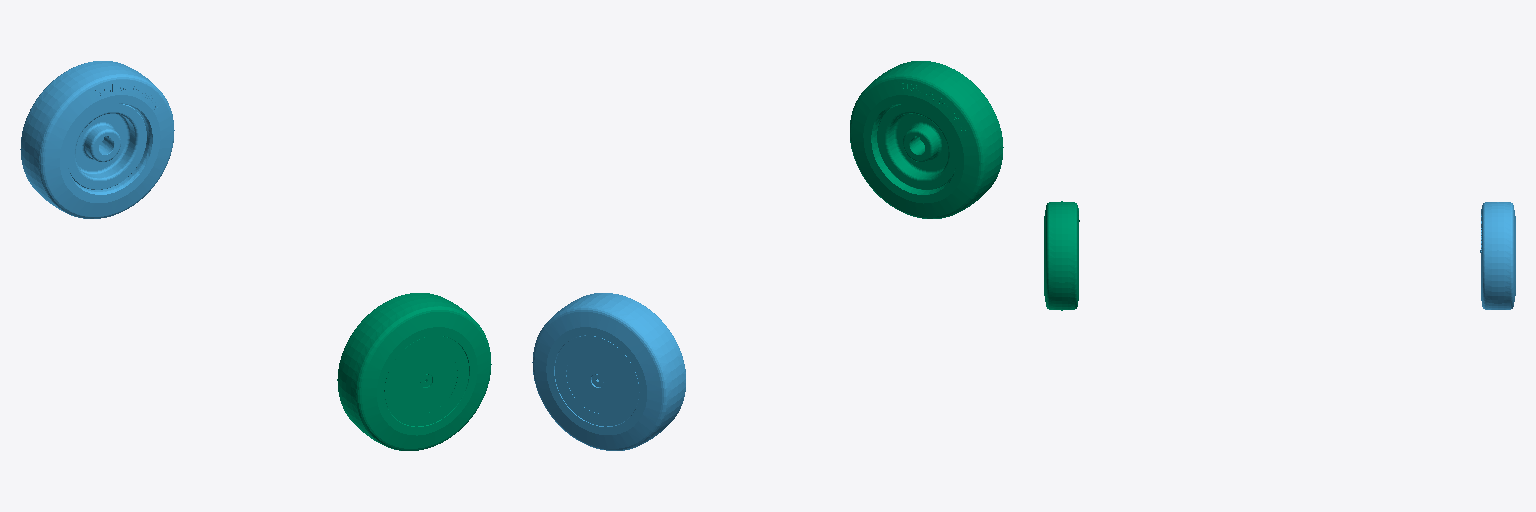
robot.urdf — swd_starter_kit:
<?xml version="1.0" encoding="utf-8"?>
<!-- This URDF describes the SWD Starter Kit robot -->

<robot name="swd_starter_kit">
  <link name="base_link">
    <visual>
      <origin xyz="-0.46 -0.27 0.0" rpy="0 0 0" />
      <geometry>
        <mesh
            filename="package://swd_starter_kit_description/meshes/starter_kit_base.stl"
            scale="0.001 0.001 0.001" />
      </geometry>

      <material name="">
        <color rgba="0.5 0.5 0.5 1" />
      </material>
    </visual>

    <collision>
      <origin xyz="-0.46 -0.27 0.0" rpy="0 0 0" />
      <geometry>
        <mesh
            filename="package://swd_starter_kit_description/meshes/starter_kit_base.stl"
            scale="0.001 0.001 0.001"/>
      </geometry>
    </collision>

    <!-- Calculations are made using a rectangular box of 540mm × 540mm × 151.5mm (L × W × H), as specified in the official documentation. -->
    <inertial>
      <origin xyz="-0.19 0 0.07575" rpy="0 0 0"/>
      <mass value="27"/>
      <inertia ixx="0.70774" ixy="0.0" ixz="0.0"
               iyy="0.70774" iyz="0.0"
               izz="1.31220" />
    </inertial>
  </link>

  <joint name="base_swd_left_joint" type="continuous">
    <parent link="base_link" />
    <child link="swd_left_link" />
    <origin xyz="0.0 0.25 0.08" rpy="-1.57 0 0" />
    <axis xyz="0 0 1" />
  </joint>

  <link name="swd_left_link">
    <visual>
      <origin xyz="0 0 0" rpy="1.57 0 0"/>
      <geometry>
        <mesh filename="package://swd_starter_kit_description/meshes/wheels/starter_kit_left_tire.stl" scale="0.001 0.001 0.001"/>
      </geometry>
    </visual>

    <collision>
      <origin xyz="0 0 0" rpy="0 0 0"/>
      <geometry>
        <cylinder length="0.037" radius="0.0630"/>
      </geometry>
    </collision>

    <inertial>
      <origin xyz="0 0 0" />
      <mass value="1" />
      <inertia ixx="0.00111" ixy="0.0" ixz="0.0"
               iyy="0.00111" iyz="0.0"
               izz="0.00198" />
    </inertial>
  </link>

  <joint name="base_swd_right_joint" type="continuous">
    <parent link="base_link" />
    <child link="swd_right_link" />
    <origin xyz="0.0 -0.25 0.08" rpy="-1.57 0 0" />
    <axis xyz="0 0 1" />
  </joint>

  <link name="swd_right_link">
    <visual>
      <origin xyz="0 0 0" rpy="1.57 0 0"/>
      <geometry>
        <mesh filename="package://swd_starter_kit_description/meshes/wheels/starter_kit_right_tire.stl" scale="0.001 0.001 0.001"/>
      </geometry>
    </visual>

    <collision>
      <origin xyz="0 0 0" rpy="0 0 0"/>
      <geometry>
        <cylinder length="0.037" radius="0.0630"/>
      </geometry>
    </collision>

    <inertial>
      <origin xyz="0 0 0" />
      <mass value="1" />
      <inertia ixx="0.00111" ixy="0.0" ixz="0.0"
               iyy="0.00111" iyz="0.0"
               izz="0.00198" />
    </inertial>
  </link>

  <joint name="caster_back_right_joint" type="fixed">
    <parent link="base_link"/>
    <child link="caster_back_right_link"/>
    <origin xyz="-0.35 -0.17 0.025" rpy="0 0 0"/>
  </joint>

  <link name="caster_back_right_link">
    <collision>
      <origin xyz="0 0.001 0" rpy="0 0 0"/>
      <geometry>
        <sphere radius="0.01"/>
      </geometry>
    </collision>

    <inertial>
      <origin xyz="0 0 0" />
      <mass value="0.005" />
      <inertia ixx="0.001" ixy="0.0" ixz="0.0"
               iyy="0.001" iyz="0.0"
               izz="0.001" />
    </inertial>
  </link>

  <joint name="caster_back_left_joint" type="fixed">
    <parent link="base_link"/>
    <child link="caster_back_left_link"/>
    <origin xyz="-0.35 0.17 0.025" rpy="0 0 0"/>
  </joint>

  <link name="caster_back_left_link">
    <collision>
      <origin xyz="0 0.001 0" rpy="0 0 0"/>
      <geometry>
        <sphere radius="0.01"/>
      </geometry>
    </collision>

    <inertial>
      <origin xyz="0 0 0" />
      <mass value="0.005" />
      <inertia ixx="0.001" ixy="0.0" ixz="0.0"
               iyy="0.001" iyz="0.0"
               izz="0.001" />
    </inertial>
  </link>

  <gazebo reference="swd_left_link">
    <mu1>0.7</mu1>
    <mu2>0.7</mu2>
    <kp>1000000.0</kp>
    <kd>10.0</kd>
    <minDepth>0.001</minDepth>
    <maxVel>0.1</maxVel>
    <fdir1>1 0 0</fdir1>
    <material>Gazebo/Yellow</material>
  </gazebo>

  <gazebo reference="swd_right_link">
    <mu1>0.7</mu1>
    <mu2>0.7</mu2>
    <kp>1000000.0</kp>
    <kd>10.0</kd>
    <minDepth>0.001</minDepth>
    <maxVel>0.1</maxVel>
    <fdir1>1 0 0</fdir1>
    <material>Gazebo/Yellow</material>
  </gazebo>

  <gazebo reference="caster_back_right_link">
    <mu1>0.05</mu1>
    <mu2>0.05</mu2>
    <kp>1000000.0</kp>
    <kd>10.0</kd>
    <minDepth>0.001</minDepth>
    <maxVel>1.0</maxVel>
    <material>Gazebo/FlatBlack</material>
  </gazebo>

  <gazebo reference="caster_back_left_link">
    <mu1>0.05</mu1>
    <mu2>0.05</mu2>
    <kp>1000000.0</kp>
    <kd>10.0</kd>
    <minDepth>0.001</minDepth>
    <maxVel>1.0</maxVel>
    <material>Gazebo/FlatBlack</material>
  </gazebo>

  <gazebo>
    <plugin name="diff_drive_controller" filename="libgazebo_ros_diff_drive.so">
      <commandTopic>/cmd_vel</commandTopic>
      <odometryTopic>/odom</odometryTopic>
      <odometryFrame>map</odometryFrame>
      <odometrySource>world</odometrySource>
      <publishOdomTF>false</publishOdomTF>
      <robotBaseFrame>base_link</robotBaseFrame>
      <publishWheelTF>false</publishWheelTF>
      <publishTf>true</publishTf>
      <publishWheelJointState>true</publishWheelJointState>
      <legacyMode>false</legacyMode>
      <updateRate>30</updateRate>
      <leftJoint>base_swd_left_joint</leftJoint>
      <rightJoint>base_swd_right_joint</rightJoint>
      <wheelSeparation>0.485</wheelSeparation>
      <wheelDiameter>0.125</wheelDiameter>
      <wheelAcceleration>11</wheelAcceleration>
      <wheelTorque>37</wheelTorque>
      <rosDebugLevel>na</rosDebugLevel>
    </plugin>
  </gazebo>

  <joint name="base_lidar_link" type="fixed">
    <origin xyz="0.05 0 0.2" rpy="0 0 0" />
    <parent link="base_link" />
    <child link="lidar_link" />
    <axis xyz="0 0 0" />
  </joint>

  <link name="lidar_link">
    <collision>
      <origin xyz="0 0 0" rpy="0 0 0"/>
      <geometry>
        <cylinder length="0.095" radius="0.04"/>
      </geometry>
    </collision>

    <inertial>
      <mass value="0.5" />
      <origin xyz="0 0 0" />
      <inertia ixx="0.00058" ixy="0.0" ixz="0.0"
               iyy="0.00058" iyz="0.0"
               izz="0.00040" />
    </inertial>
  </link>

  <gazebo reference="lidar_link">
    <material>Gazebo/FlatBlack</material>
    <sensor type="ray" name="lidar_sensor">
      <pose>0 0 0 0 0 0</pose>
      <visualize>true</visualize>
      <update_rate>30</update_rate>
      <ray>
        <scan>
          <horizontal>
            <samples>1080</samples>
            <resolution>1</resolution>
            <min_angle>-2.356194496154785</min_angle>
            <max_angle>2.356194496154785</max_angle>
          </horizontal>
        </scan>

        <range>
          <min>0.09</min>
          <max>20</max>
          <resolution>0.001</resolution>
        </range>

        <noise>
          <type>gaussian</type>
          <mean>0.0</mean>
          <stddev>0.01</stddev>
        </noise>
      </ray>

      <plugin name="laser_controller" filename="libgazebo_ros_laser.so">
        <topicName>scan</topicName>
        <frameName>scan_link</frameName>
      </plugin>
    </sensor>
  </gazebo>

  <joint name="base_imu_link" type="fixed">
    <origin xyz="-0.05 0 0.2" rpy="0 0 0" />
    <parent link="base_link" />
    <child link="imu_sensor_link" />
    <axis xyz="0 0 0" />
  </joint>

  <link name="imu_sensor_link">
    <collision>
      <origin xyz="0 0 0" rpy="0 0 0"/>
      <geometry>
        <box size="0.055 0.0368 0.024"/>
      </geometry>
    </collision>

    <inertial>
      <mass value="0.1" />
      <origin xyz="0 0 0" />
      <inertia ixx="0.00002" ixy="0.0" ixz="0.0"
               iyy="0.00003" iyz="0.0"
               izz="0.00004" />
    </inertial>
  </link>
  
  <gazebo reference="imu_sensor_link">
    <material>Gazebo/FlatBlack</material>
    <sensor type="imu" name="imu_sensor">
      <pose>0 0 0 0 0 0</pose>
      <always_on>true</always_on>
      <update_rate>200</update_rate>
      <visualize>false</visualize>
      <plugin name="imu_controller" filename="libgazebo_ros_imu_sensor.so">
        <topicName>imu</topicName>
        <bodyName>imu_sensor_link</bodyName>
        <updateRateHZ>200.0</updateRateHZ>
        <gaussianNoise>0.0</gaussianNoise>
        <xyzOffset>0 0 0</xyzOffset>
        <rpyOffset>0 0 0</rpyOffset>
        <frameName>imu_link</frameName>
        <initialOrientationAsReference>false</initialOrientationAsReference>
      </plugin>
    </sensor>
  </gazebo>
</robot>

--- Render facts (derived) ---
The picture shows the robot from 3 angles, left to right: view 1: azimuth 30°, elevation 25°; view 2: azimuth 150°, elevation 25°; view 3: azimuth 270°, elevation 25°; orthographic projection.
Model swd_starter_kit with 7 links and 6 joints (2 continuous, 4 fixed), rooted at base_link, posed every joint at zero.
Links seen in each view (by area): view 1: swd_left_link, swd_right_link; view 2: swd_right_link, swd_left_link; view 3: swd_right_link, swd_left_link.
Link boxes in pixels (x1,y1,x2,y2): swd_left_link: [20, 61, 174, 218]; swd_right_link: [337, 293, 491, 450]; swd_right_link: [850, 61, 1003, 218]; swd_left_link: [532, 293, 685, 450]; swd_right_link: [1044, 201, 1079, 310]; swd_left_link: [1480, 202, 1515, 309].
Bounding box of the posed robot: 0.1249 × 0.5399 × 0.125 m (x, y, z).
Meshes: 3 distinct files referenced, 2 mesh visuals loaded (2 binary STL); not drawn: 1 (reference not matched to a file when rendering).
